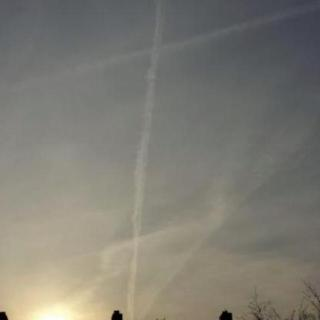Contrails: (117, 0, 320, 309)
